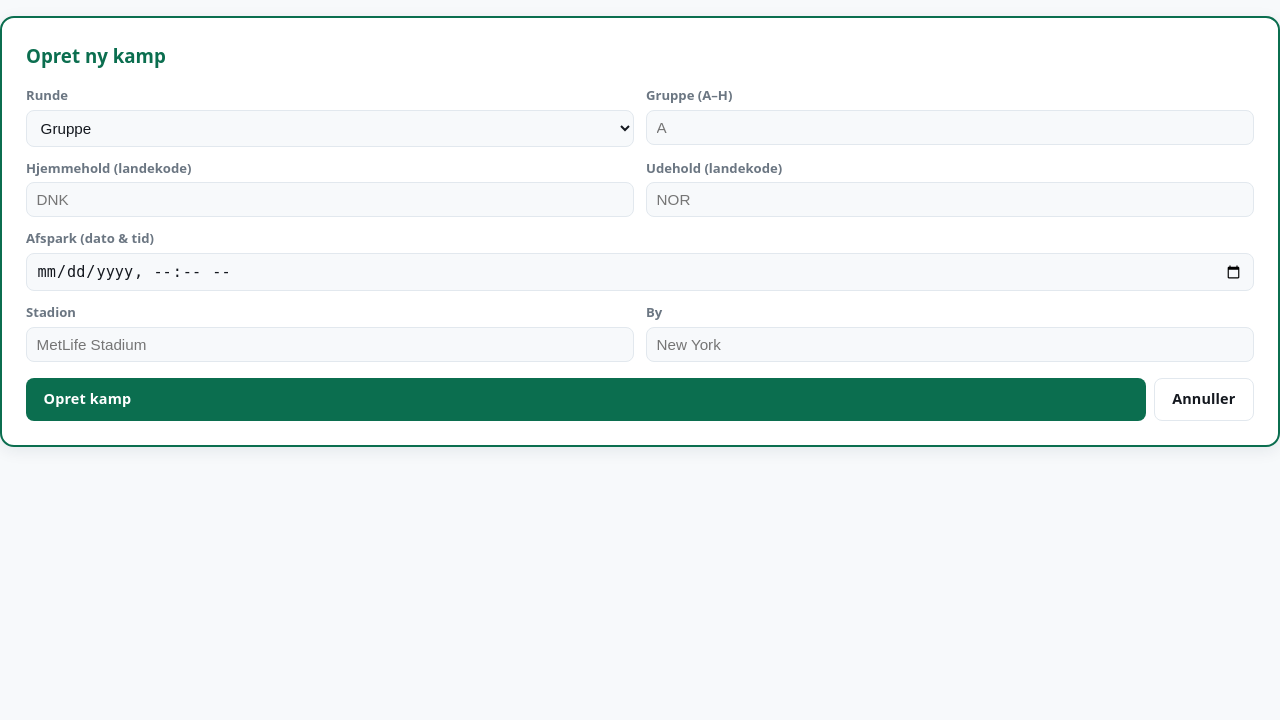
MatchCreateForm › viser fejlbesked ved createMatch-fejl
The width and height of the screenshot is (1280, 720).
In the 4th field: (640, 272) [26, 253, 1254, 291], type "2026-06-11T18:00"
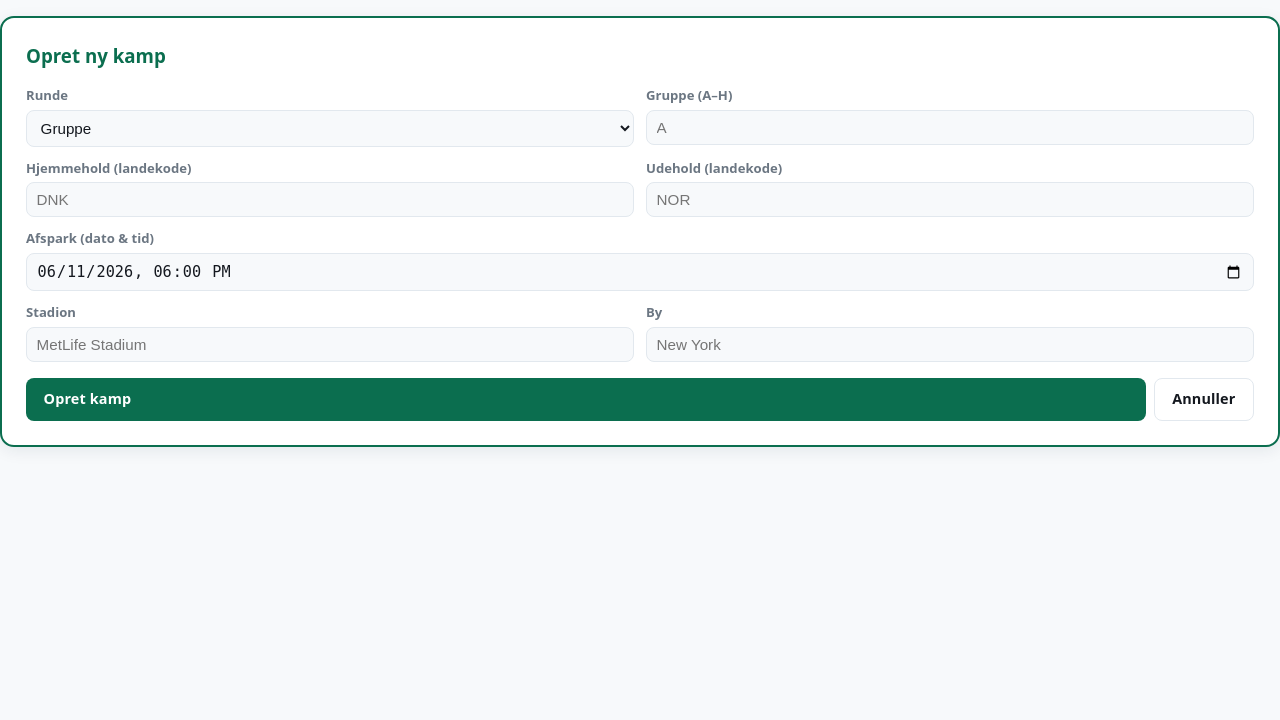
Click the button "Opret kamp": (87, 399) [26, 378, 1146, 421]
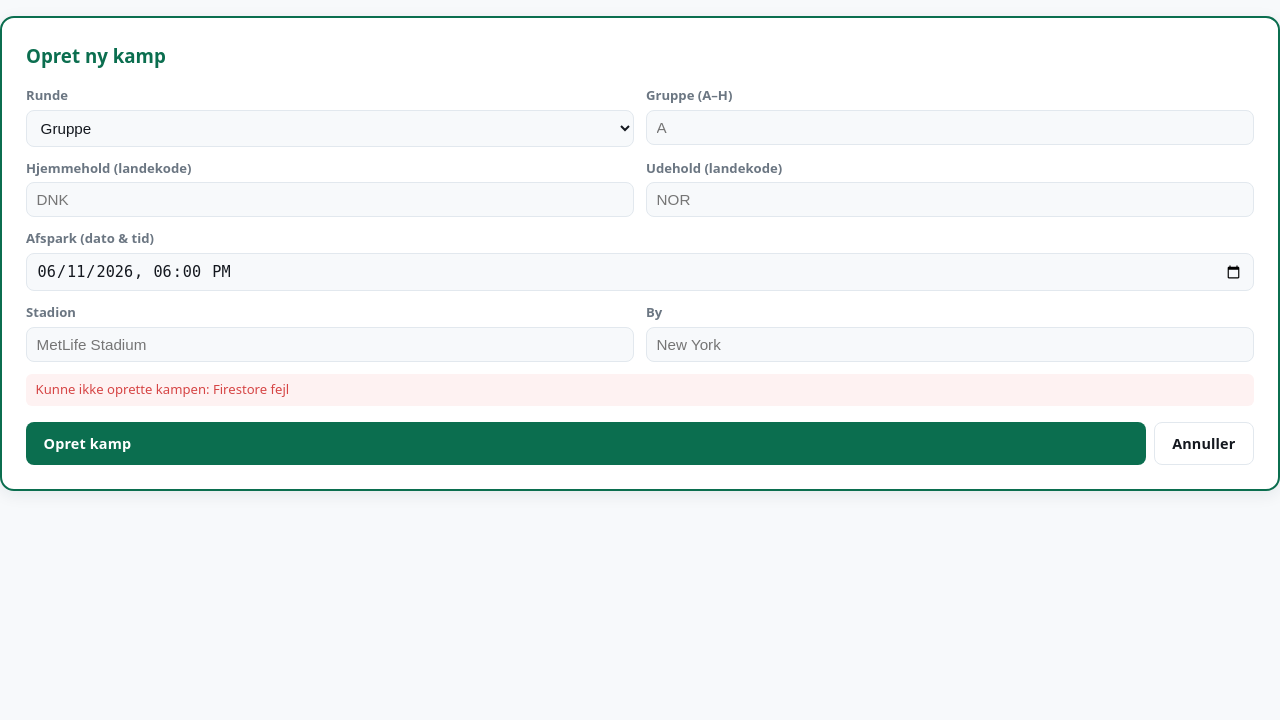
Check: the message shows "Kunne ikke oprette", box [36, 380, 289, 398]
